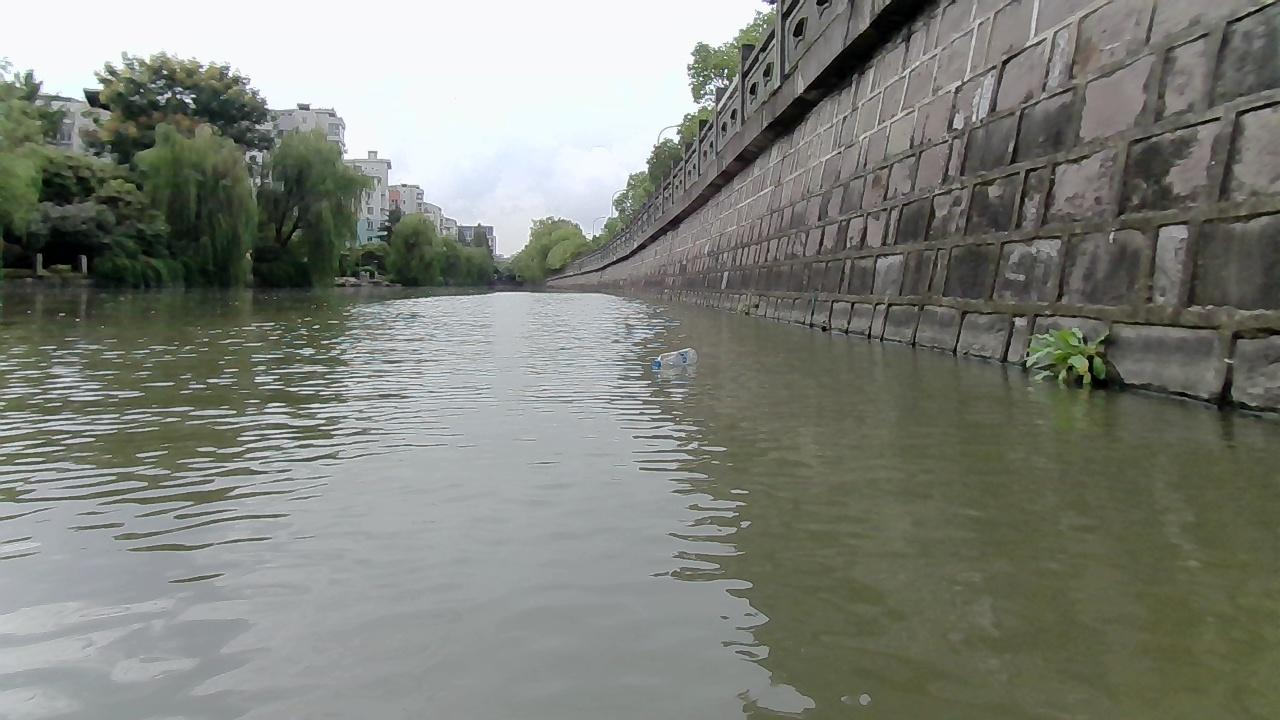bottle: (650, 346, 698, 367)
